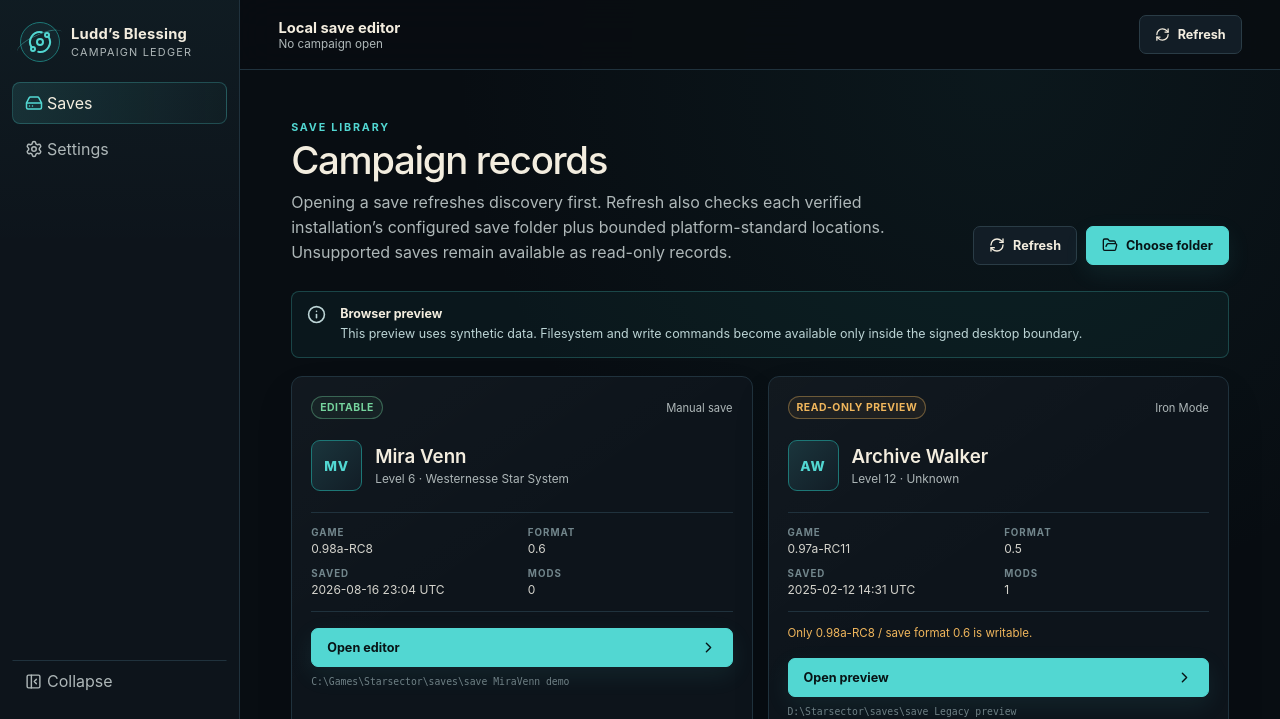
Ludd’s Blessing app shell › keeps the officer roster available and bulk-sets every editable skill rank
Step 1. Click the button "Open editor" → (363, 648), box [311,628,732,667]
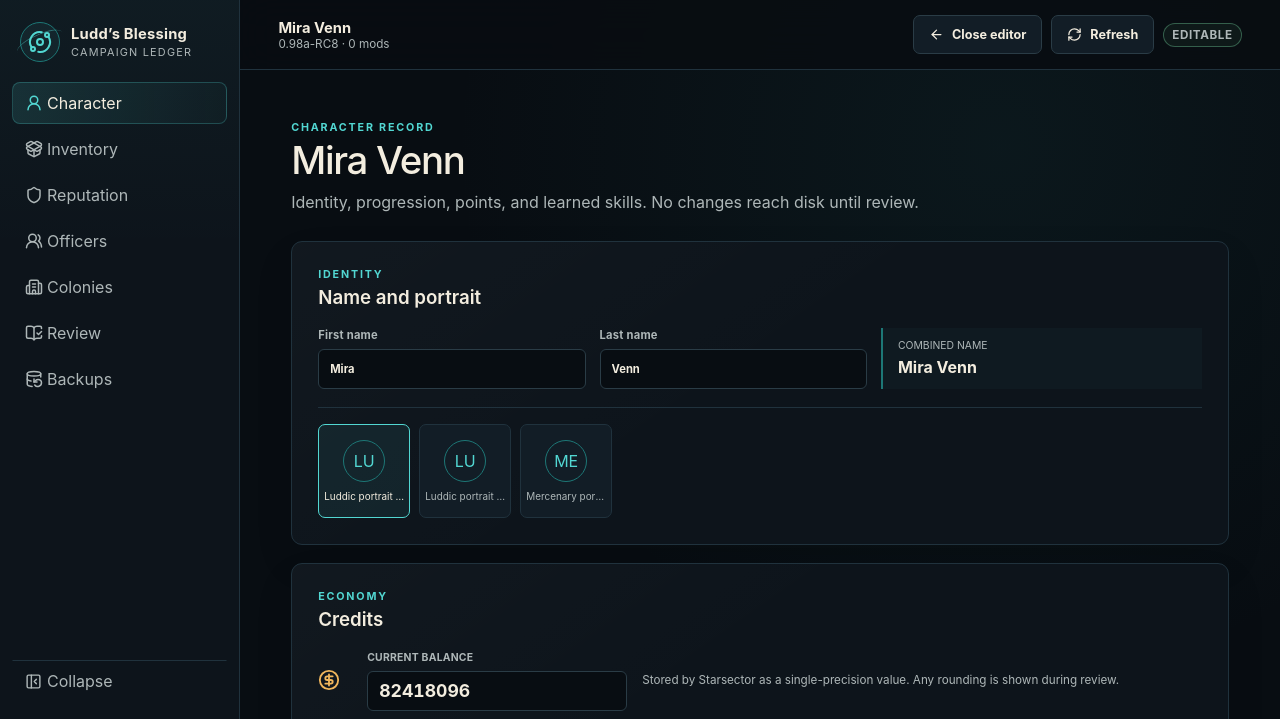
Expected: the heading "Name and portrait" is shown, [318,286,481,309]
Step 2. Click the button "Officers" → (120, 241), box [12,220,227,262]
(page scrolled)
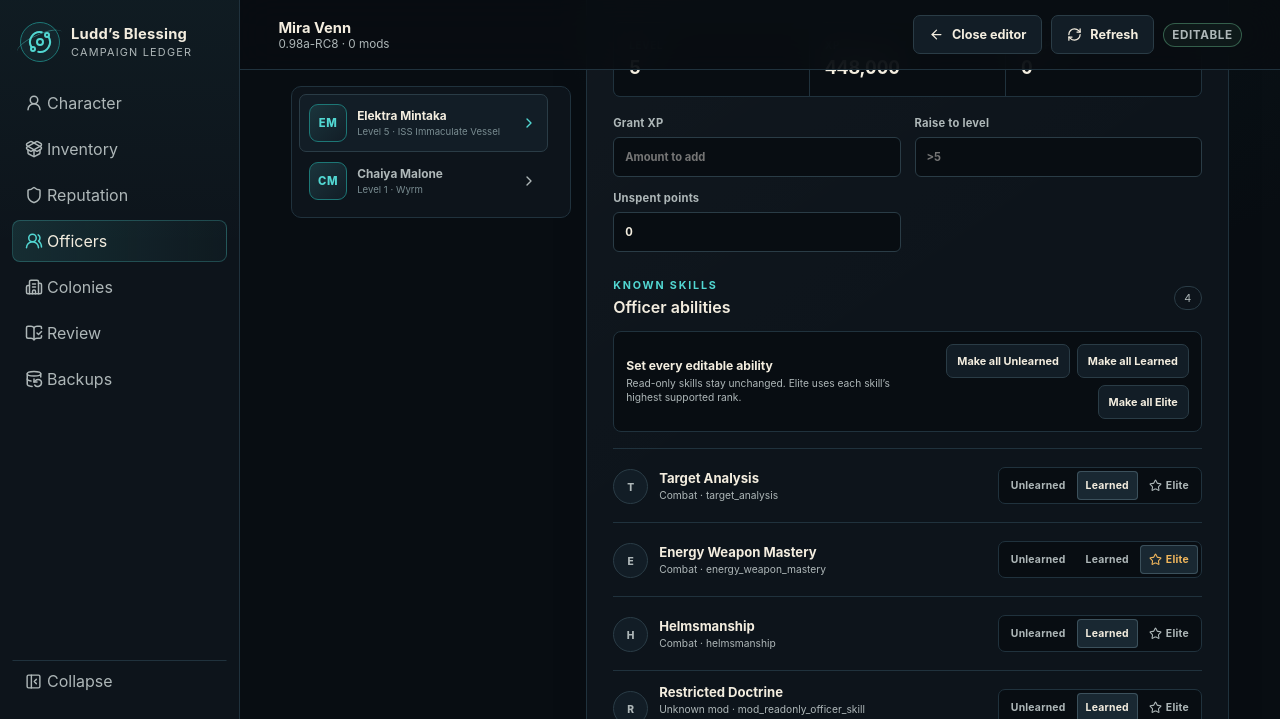
Step 3. Click the button "Make all Unlearned" → (1008, 361), box [946,344,1070,378]
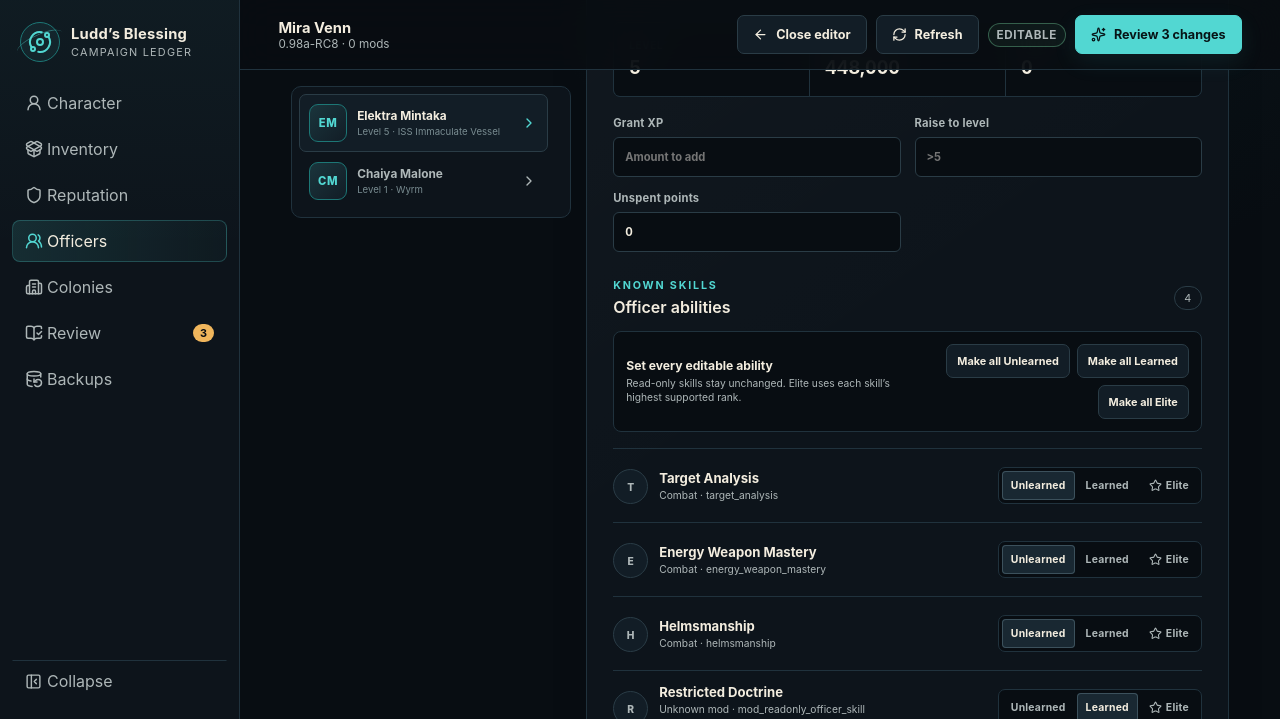
Expected: the radio button labelled "Unlearned" in the row of "target_analysis" is checked, [1002,471,1075,500]
Expected: the button "Review 3 changes" is shown, [1075,15,1242,54]
Step 4. Click the button "Make all Learned" → (1133, 361), box [1077,344,1189,378]
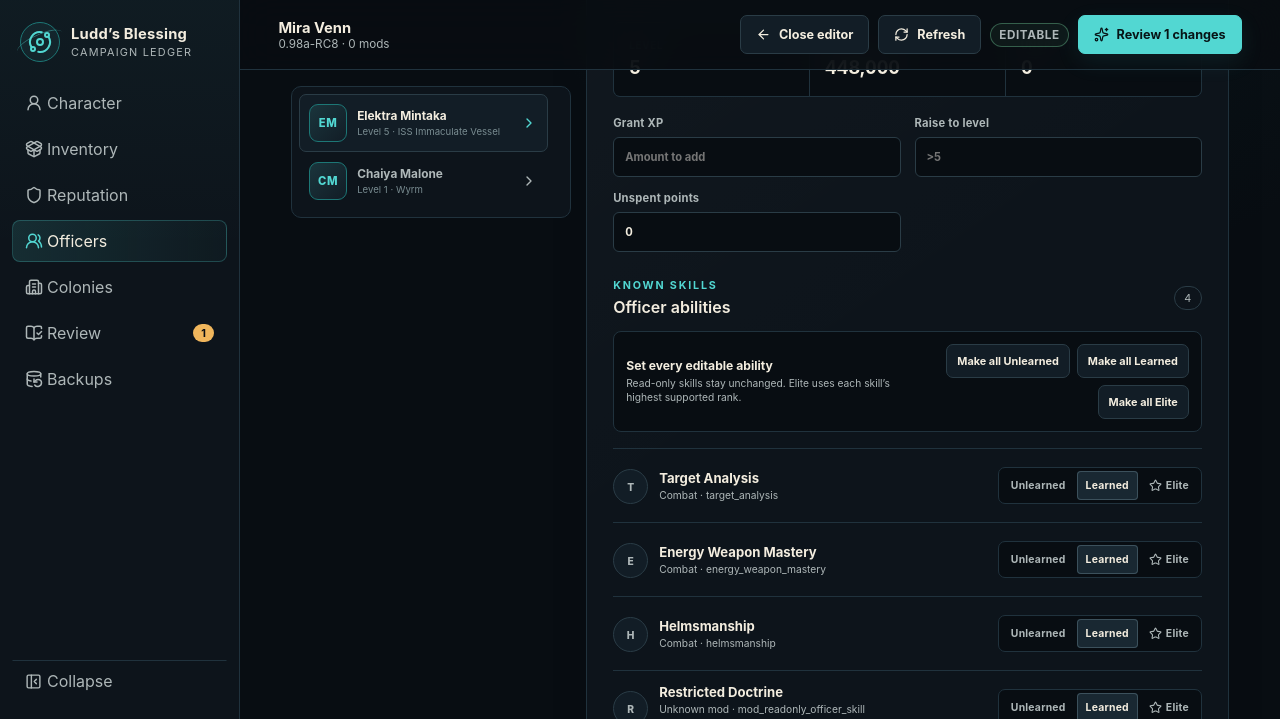
Expected: the radio button labelled "Learned" in the row of "energy_weapon_mastery" is checked, [1076,545,1138,574]
Expected: the button "Review 1 changes" is shown, [1078,15,1242,54]
Step 5. Click the button "Make all Elite" → (1143, 402), box [1098,385,1189,419]
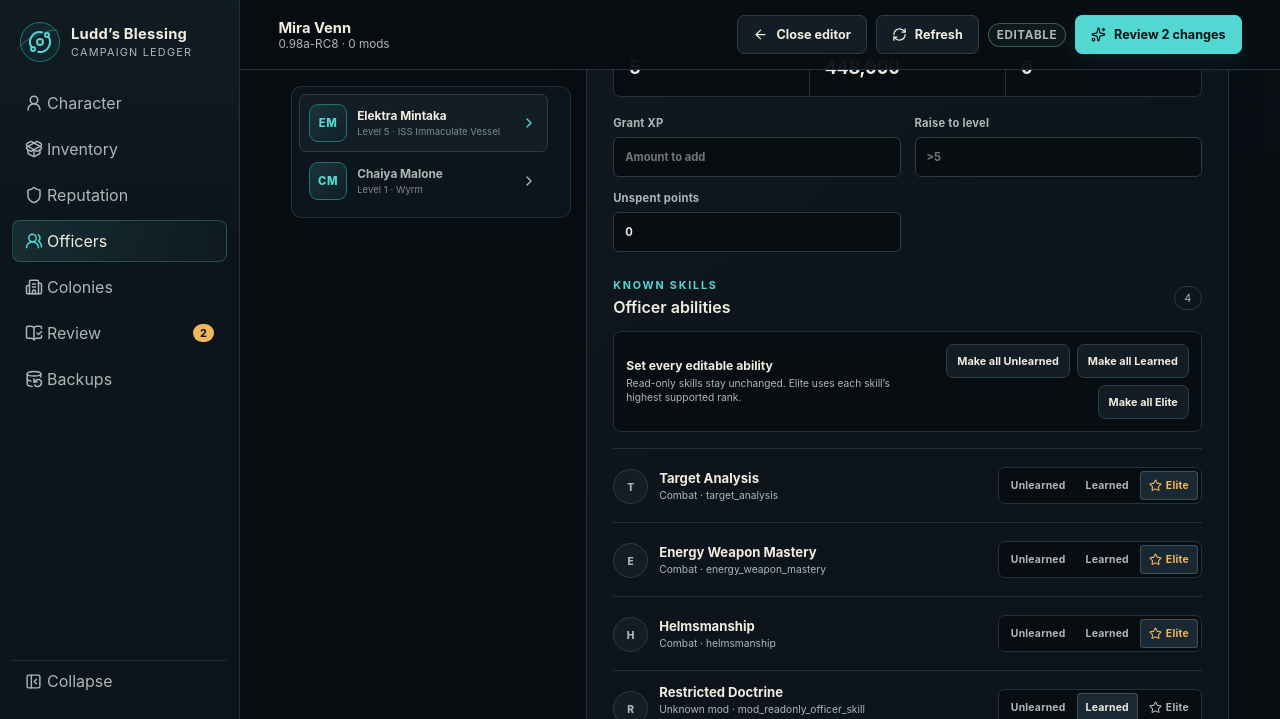
Expected: the radio button labelled "Elite" in the row of "target_analysis" is checked, [1140,471,1198,500]
Expected: the 3rd radio button labelled "Elite" is checked, [1140,619,1198,648]
Expected: the button "Review 2 changes" is shown, [1075,15,1242,54]
